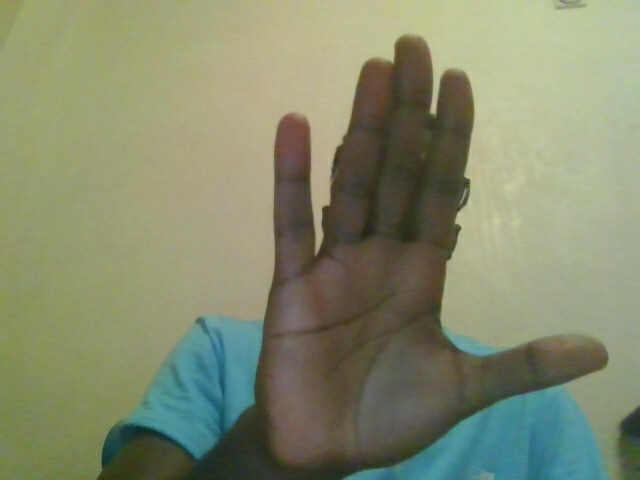hello: (191, 14, 617, 476)
